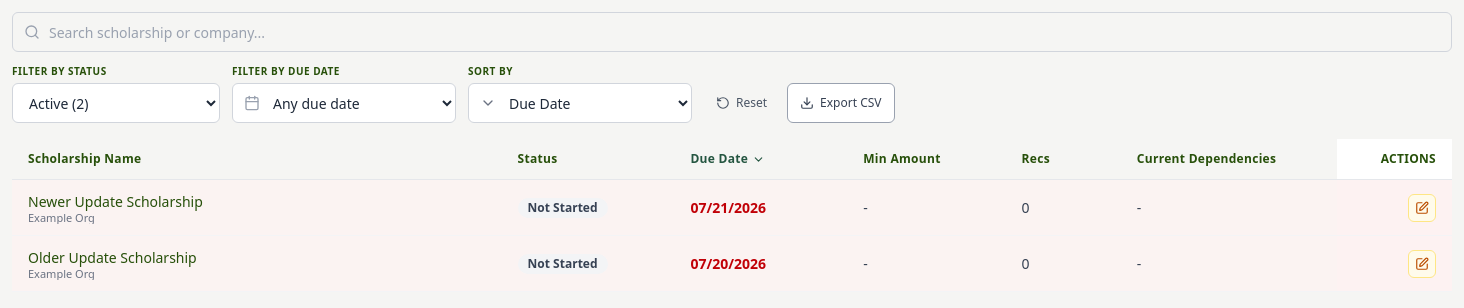
Test: GridView › can switch the date column from due date to updated date through sort by
Expected: the button "Due Date" is shown, [690,151,765,167]
Select "Updated" in the dropdown labelled "Sort by": (580, 103) [468,83,692,123]
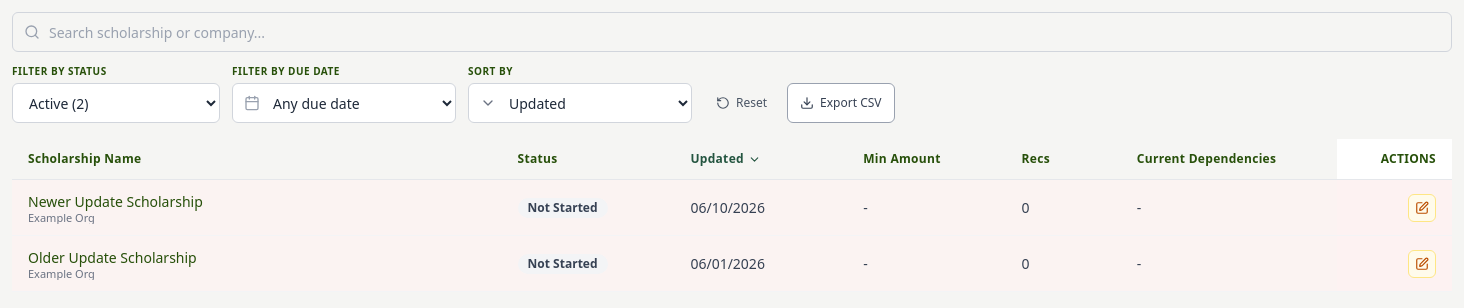
Expected: the button "Updated" is shown, [690,151,761,167]
Expected: the text "06/10/2026" is shown, [674,180,847,236]
Expected: the text "06/01/2026" is shown, [674,236,847,292]
